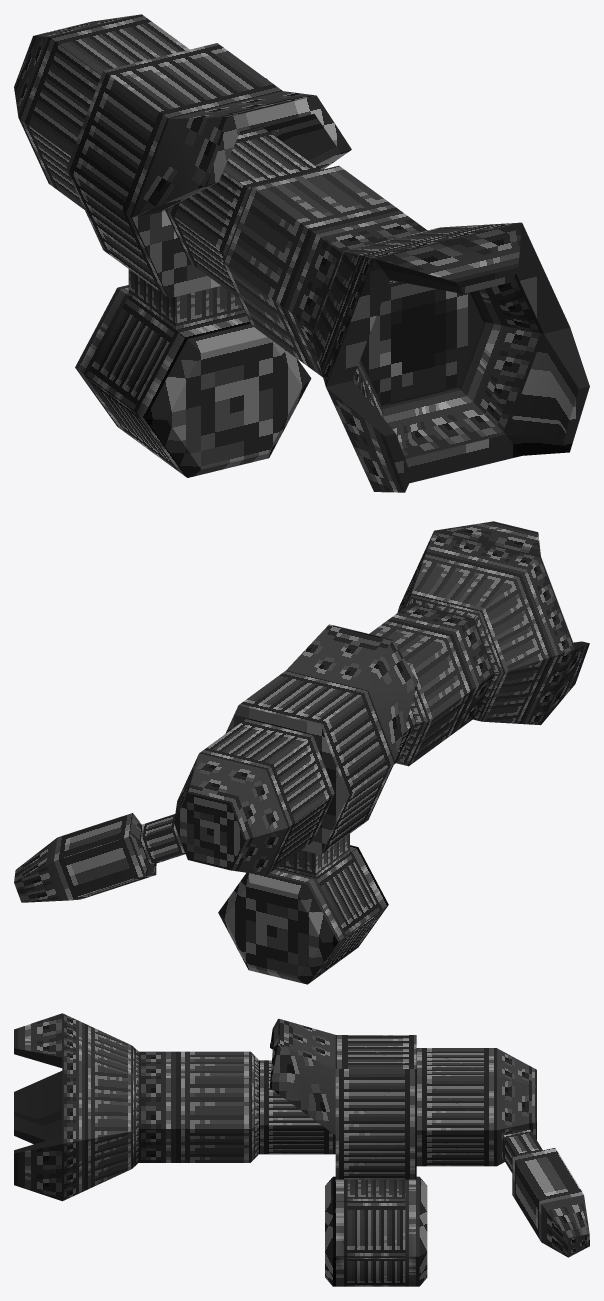
Rendered from weapon_FlakCannonSuper.fbx.
3 views of the same model, one above another, from view 1: azimuth 30°, elevation 25°; view 2: azimuth 150°, elevation 25°; view 3: azimuth 270°, elevation 25° (orthographic). The views are drawn at different scales.
Visible parts, largest first — view 1: weapon_SuperFlakCannon; view 2: weapon_SuperFlakCannon; view 3: weapon_SuperFlakCannon.
Boxes of the visible parts, <box> form: weapon_SuperFlakCannon: <box>14,14,589,492</box>; weapon_SuperFlakCannon: <box>14,521,589,984</box>; weapon_SuperFlakCannon: <box>14,1013,589,1286</box>.
Bounding box in the file's own units: 3.2 × 3.31 × 7.11.
